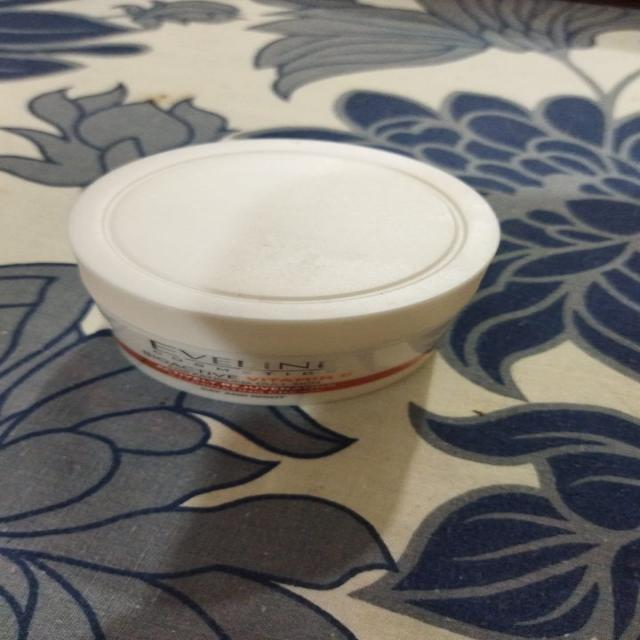lotion: (38, 128, 517, 420)
